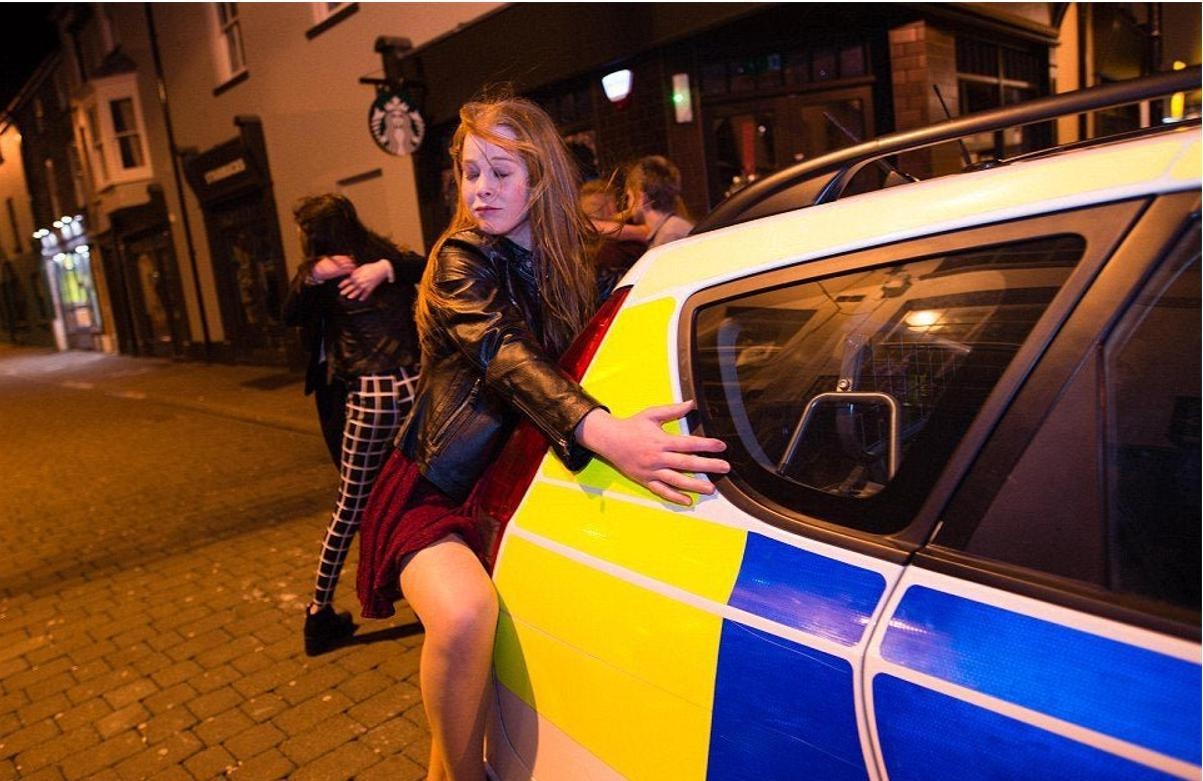Drunk: (457, 135, 530, 232)
